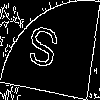S: (25, 25, 60, 77)
